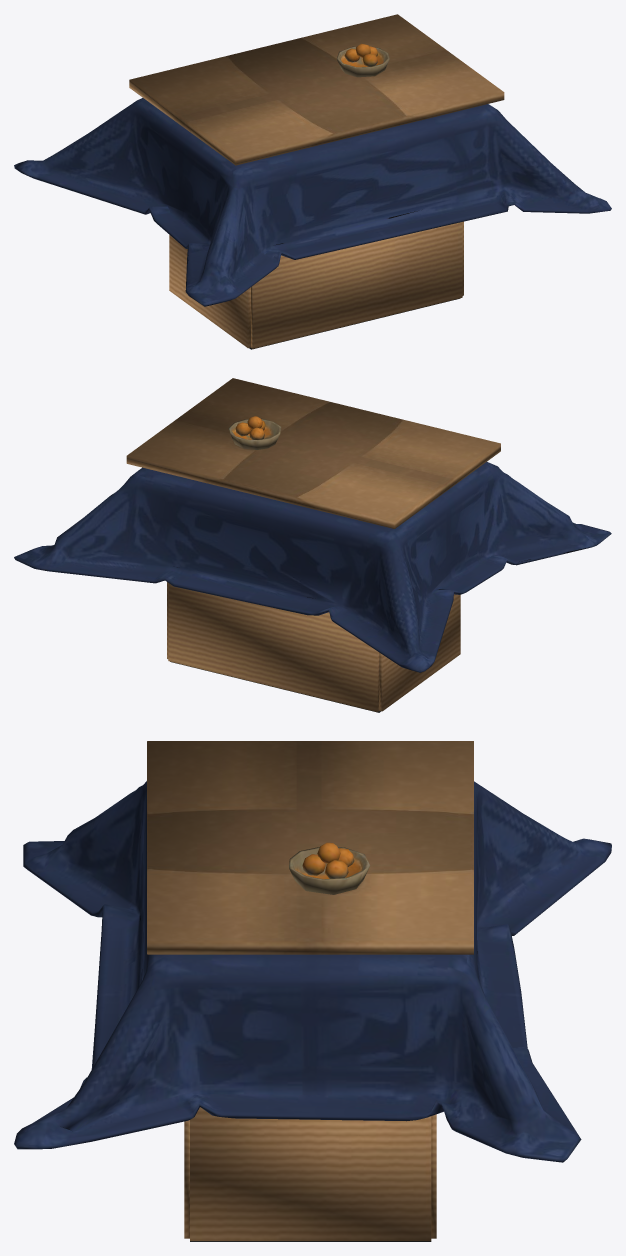
Rendered from kotatsu_indigo.glb.
3 views of the same model, one above another, from view 1: azimuth 30°, elevation 25°; view 2: azimuth 150°, elevation 25°; view 3: azimuth 270°, elevation 25° (orthographic). The views are drawn at different scales.
Visible parts, largest first — view 1: prop_kotatsu_indigo_felt, prop_kotatsu_indigo_wood; view 2: prop_kotatsu_indigo_felt, prop_kotatsu_indigo_wood; view 3: prop_kotatsu_indigo_felt, prop_kotatsu_indigo_wood.
Boxes of the visible parts, x1,y1,x2,y2 form: prop_kotatsu_indigo_felt: (14,43,611,349); prop_kotatsu_indigo_wood: (129,14,504,348); prop_kotatsu_indigo_felt: (14,416,611,712); prop_kotatsu_indigo_wood: (126,378,500,711); prop_kotatsu_indigo_felt: (14,781,611,1241); prop_kotatsu_indigo_wood: (147,741,473,1240).
Size of the model in its own units: 4.04 by 2.12 by 3.2.
Materials: 3 (3 with a texture image).
